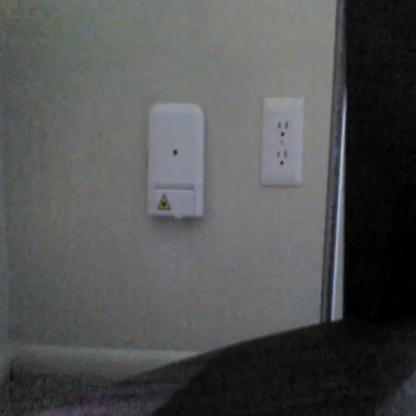OUTLET: (261, 99, 303, 188)
